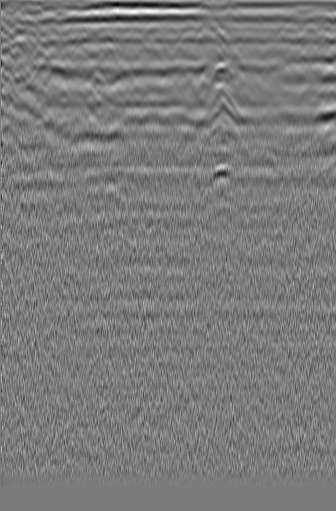가스: (202, 159, 239, 193)
상수: (26, 22, 70, 55)
오수: (289, 23, 321, 57)
우수: (136, 23, 168, 53)
